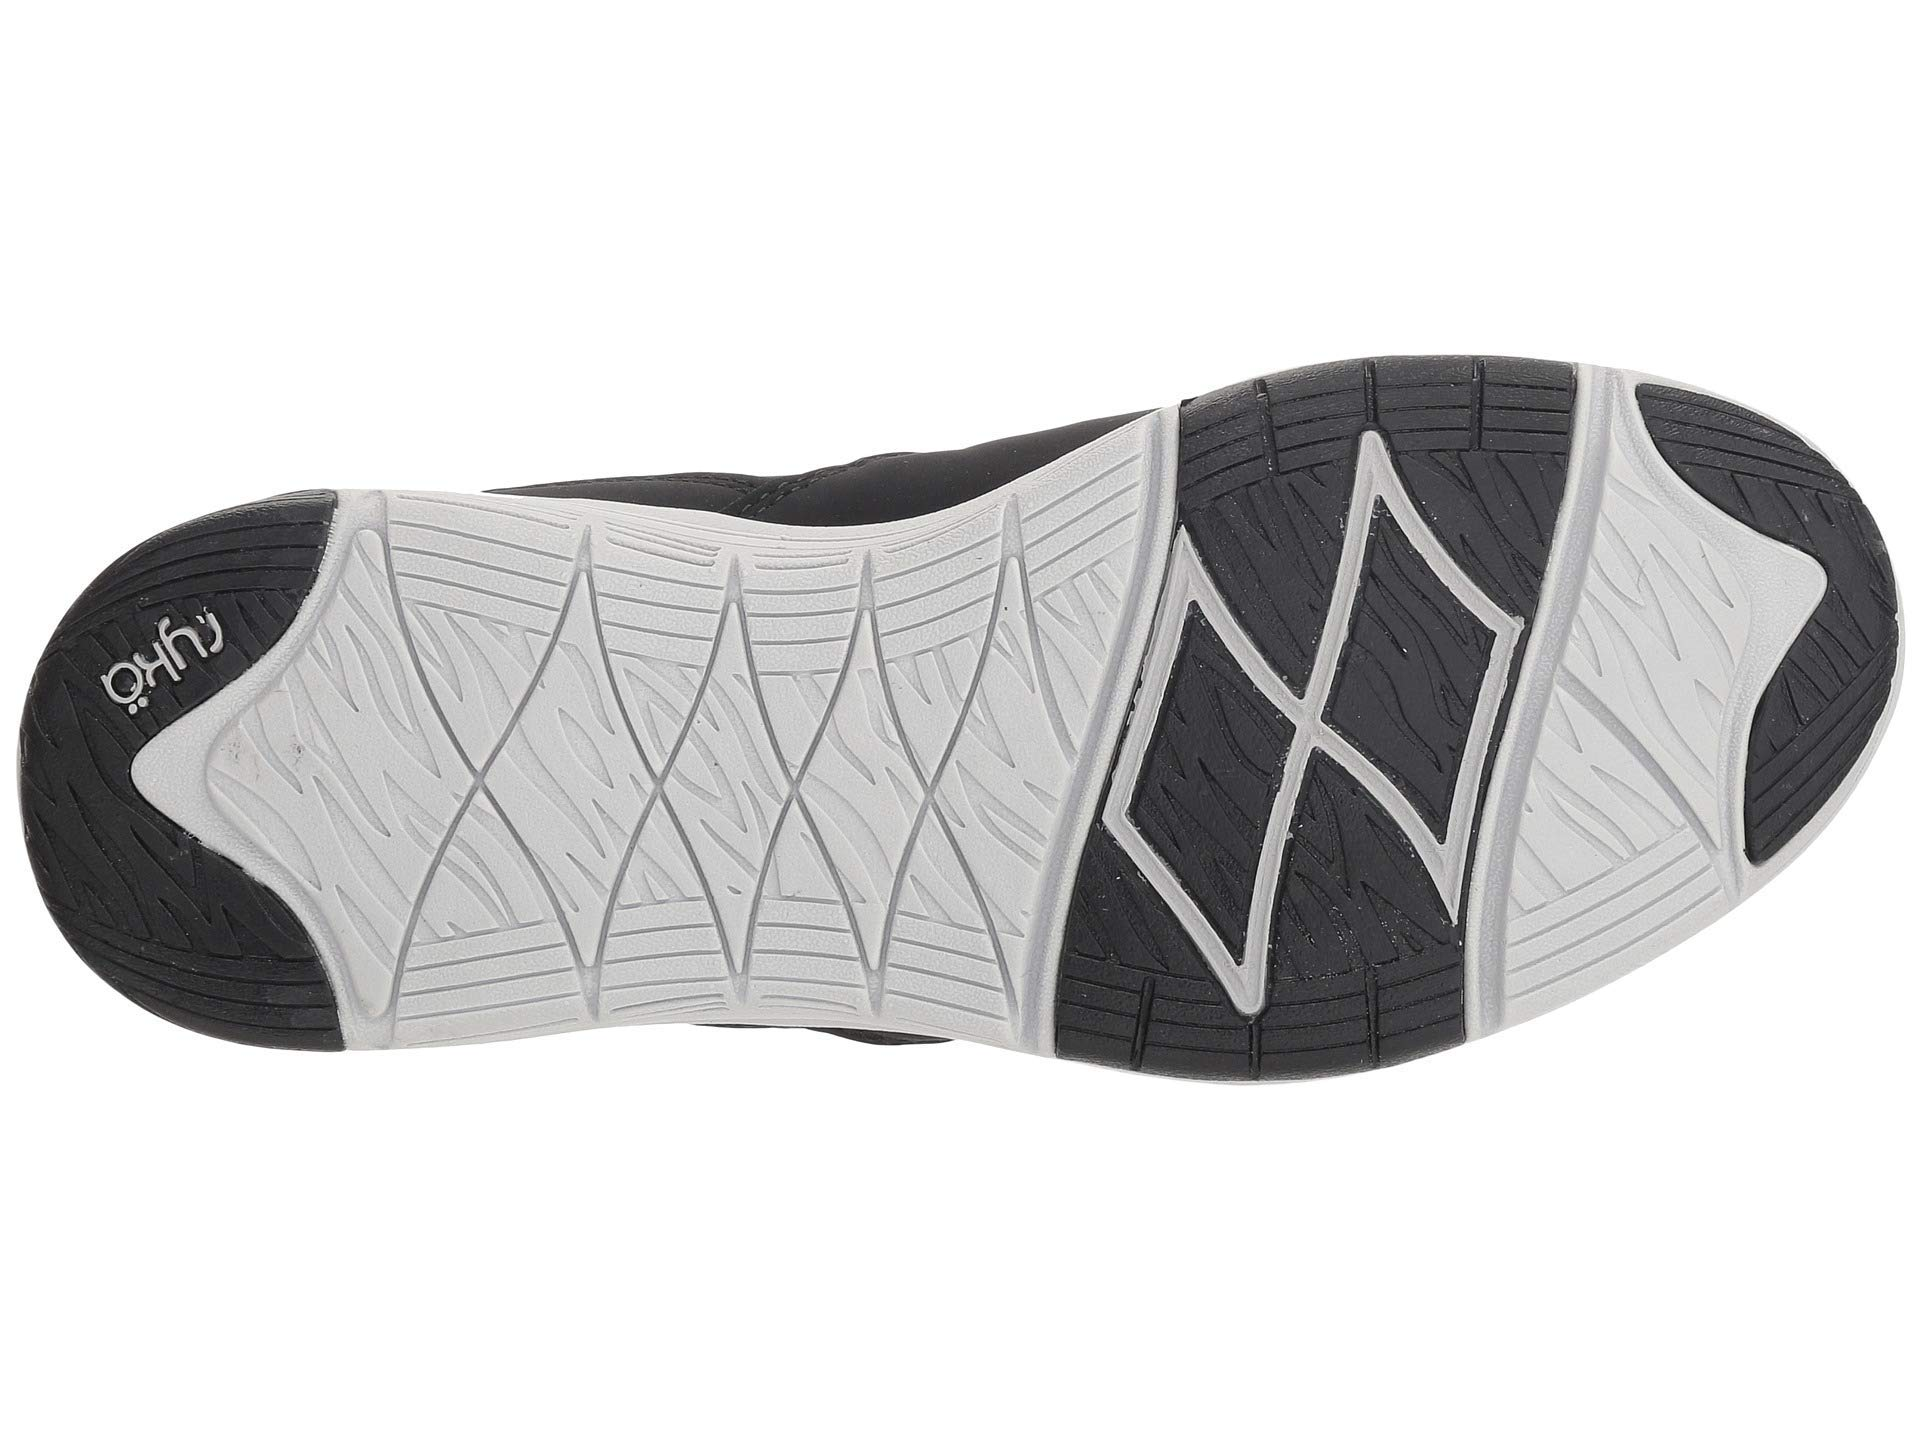circle: (76, 604, 262, 762)
text: (76, 604, 262, 762)
